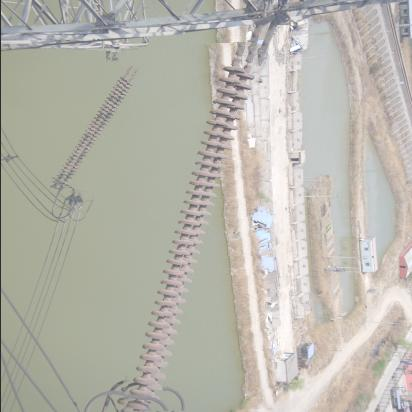insulator: (111, 44, 272, 412), (59, 57, 132, 201)
